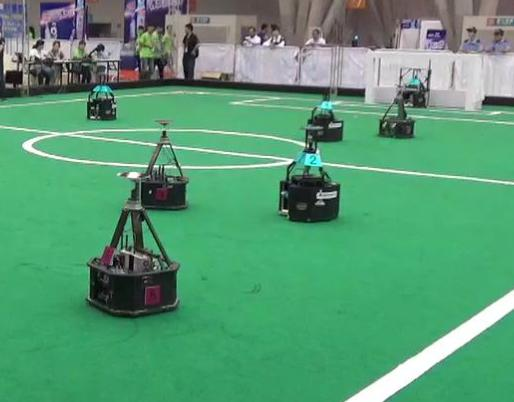robot: (86, 169, 184, 316), (272, 125, 346, 225), (126, 117, 195, 217), (302, 88, 348, 143), (378, 82, 418, 141), (83, 70, 122, 123)
